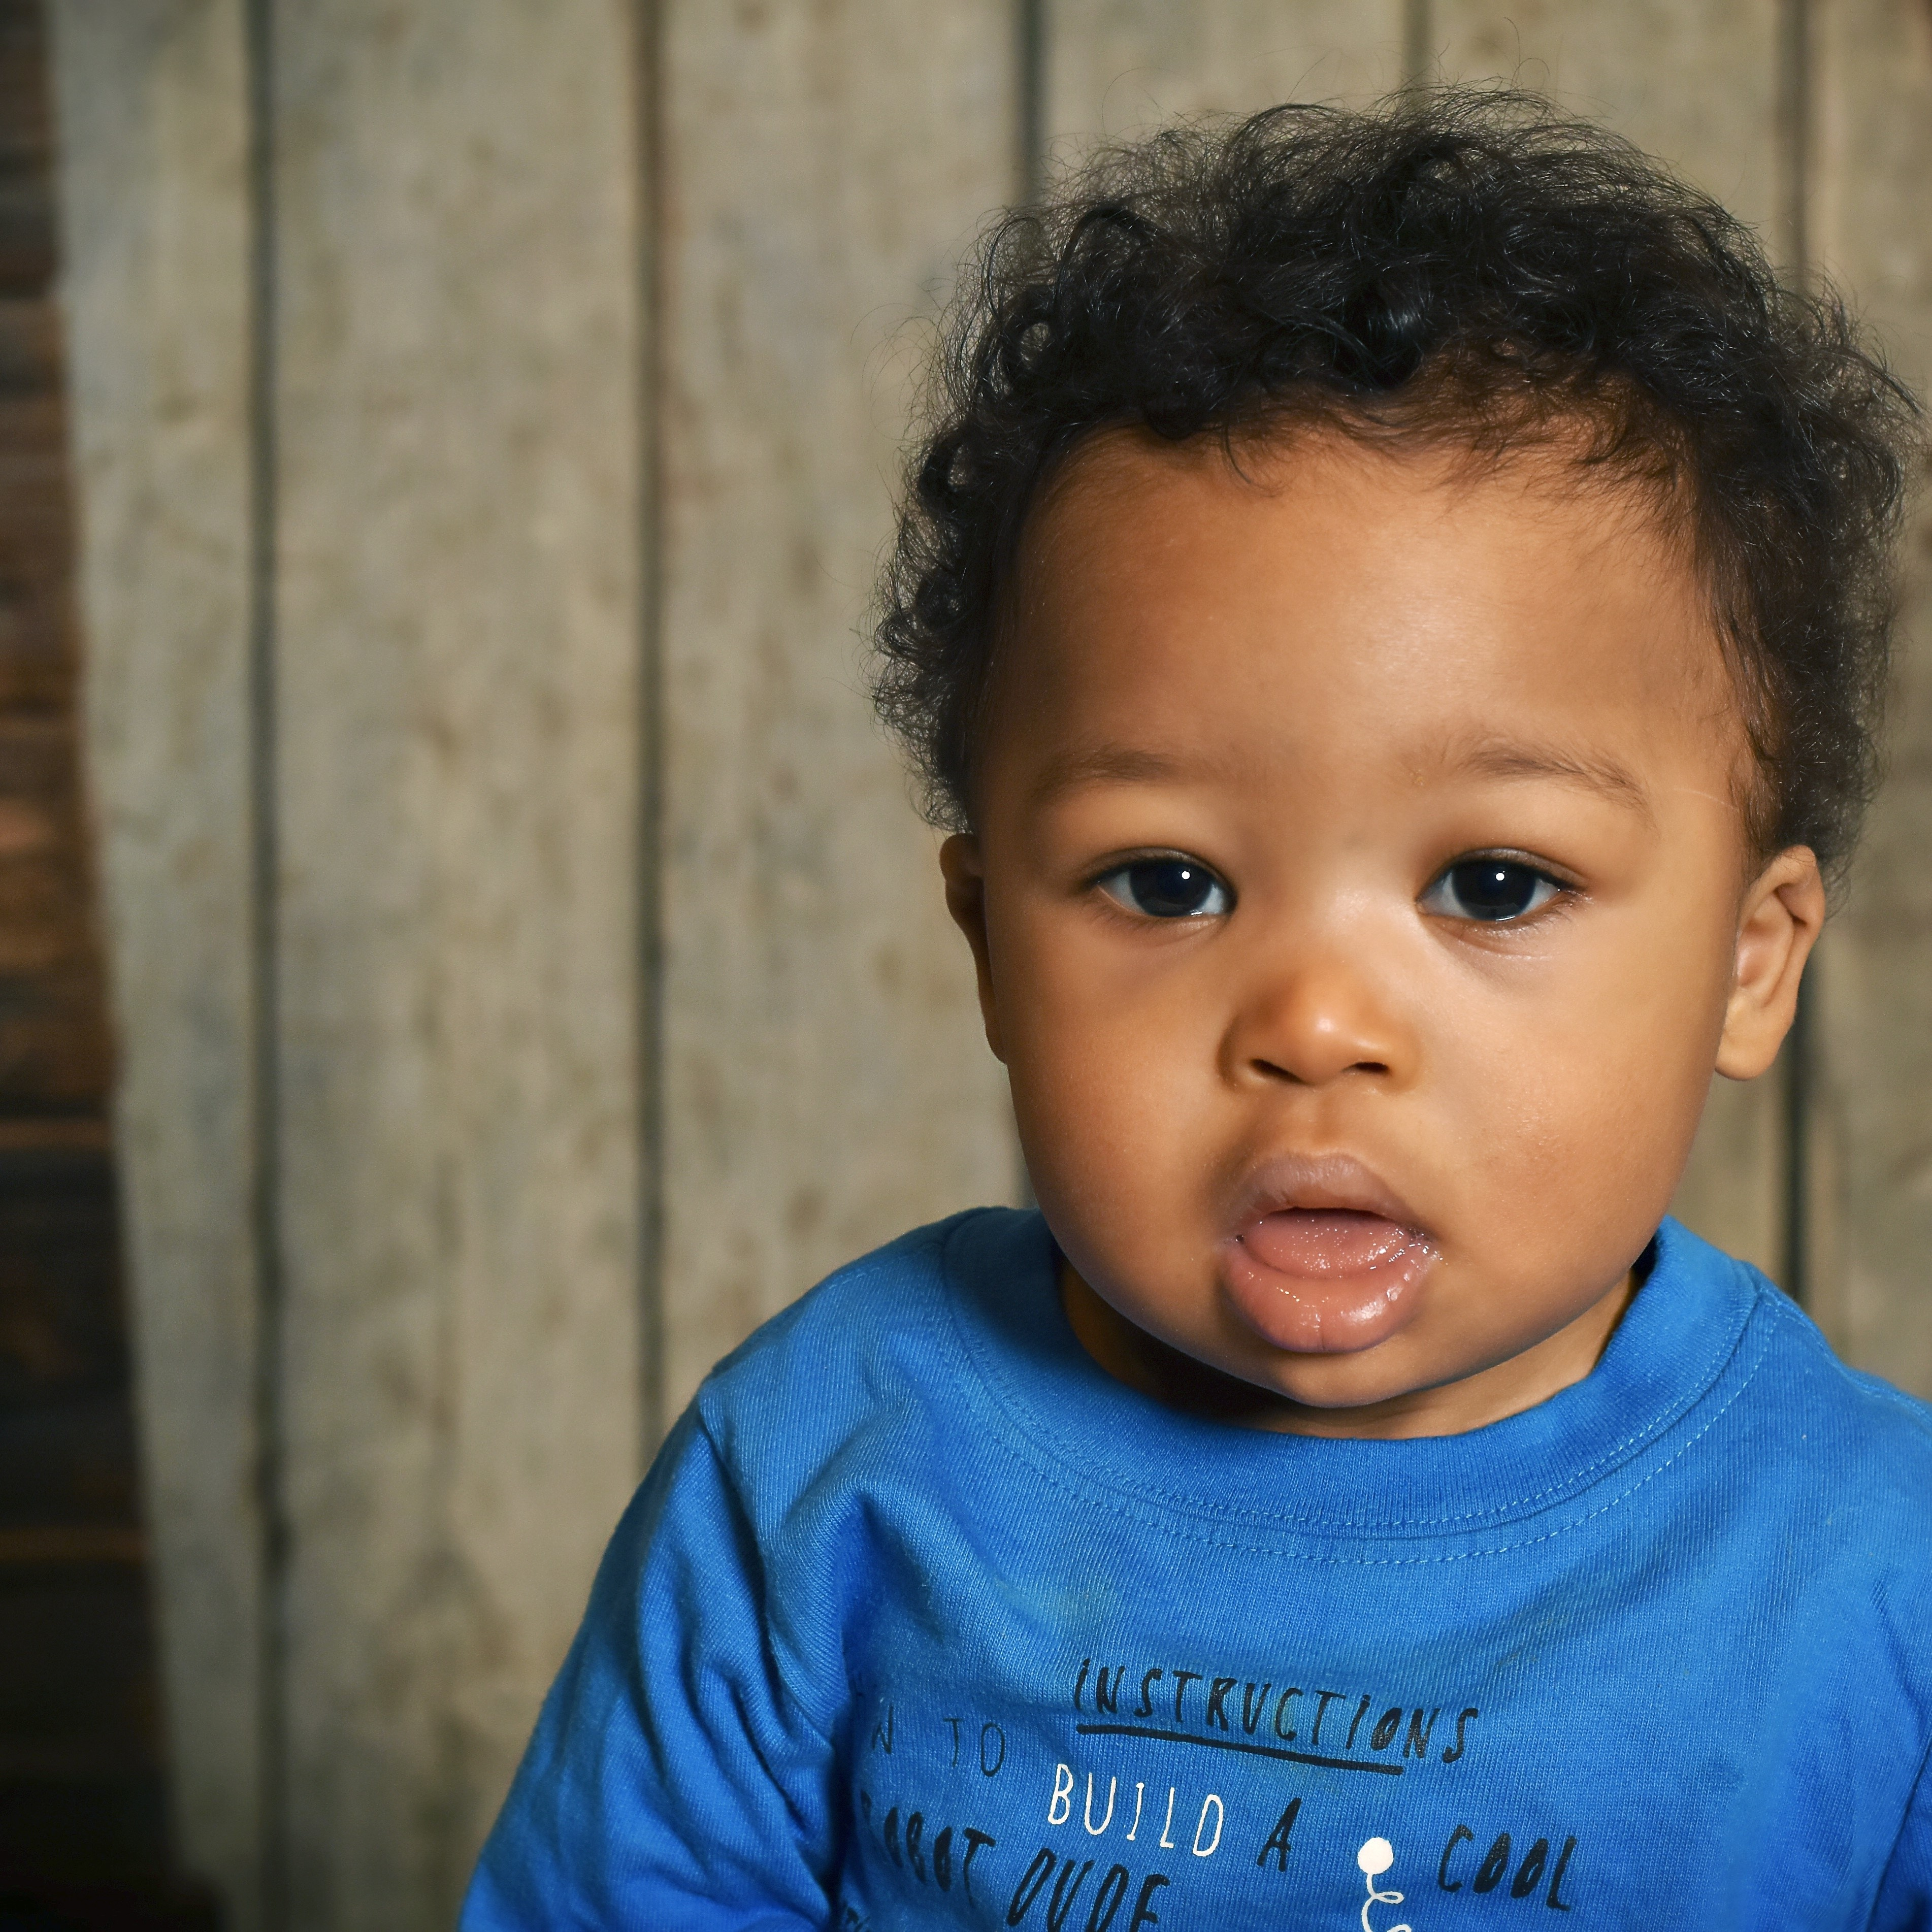face_no_mask: (924, 165, 1829, 1428)
